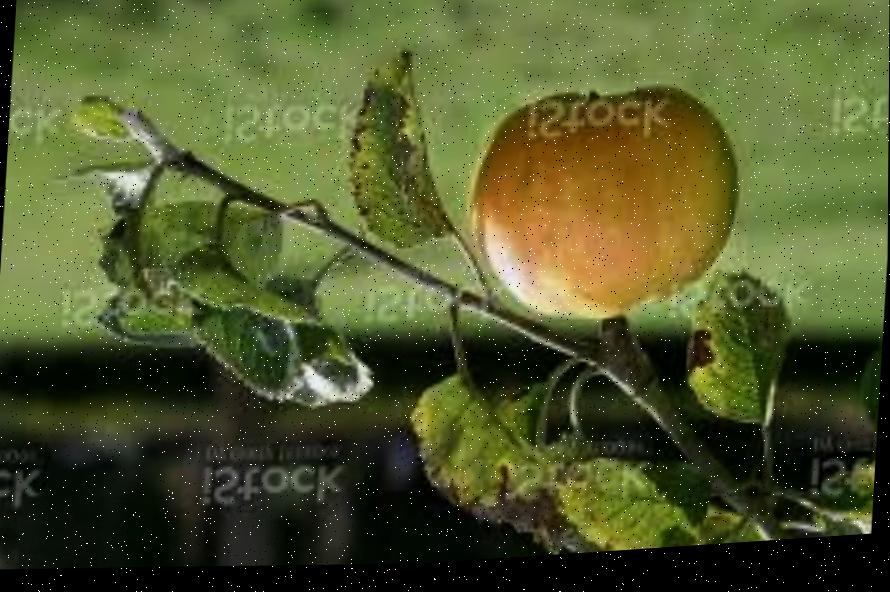HEALTHY: (469, 65, 763, 369)
